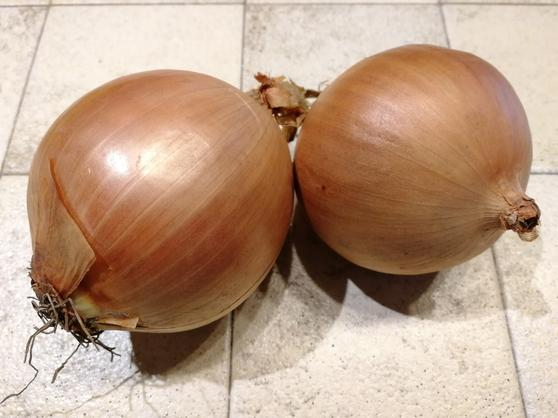onion: (33, 64, 304, 339), (275, 34, 540, 291)
